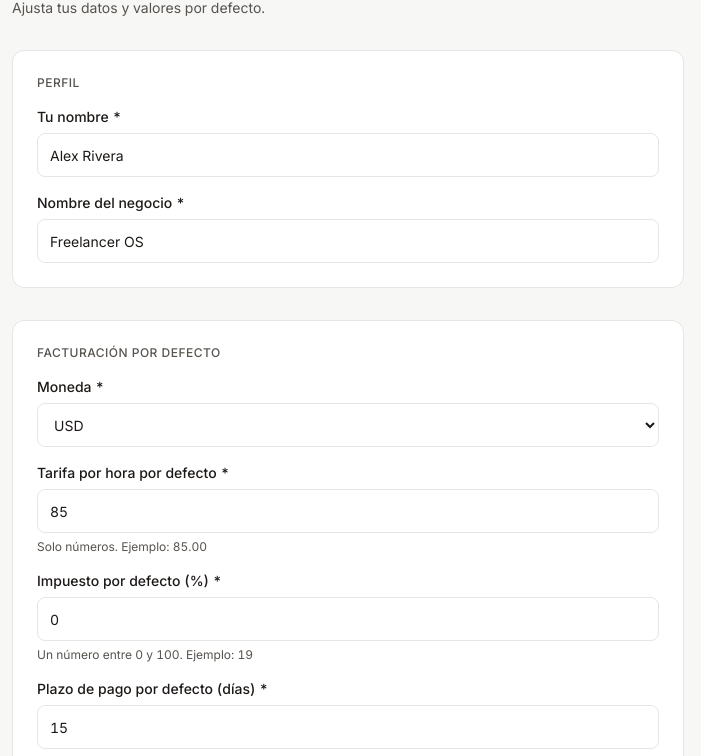
it: Configuración › shows a helpful error for an invalid tax rate
Replace the text in the number field labelled "Impuesto por defecto (%) *" with "150" at (348, 619), box [37,597,659,641]
(page scrolled)
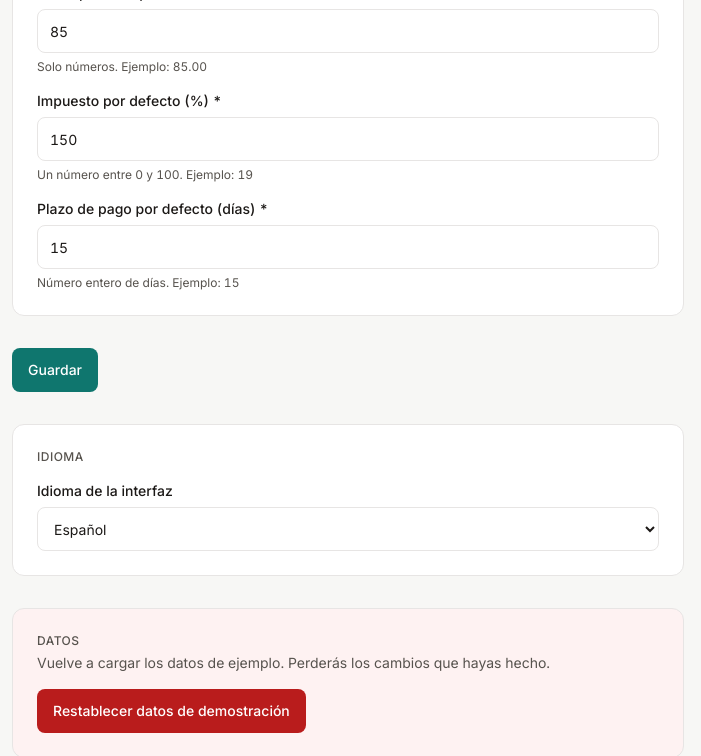
Click the button "Guardar" at (55, 370), box [12,348,98,392]
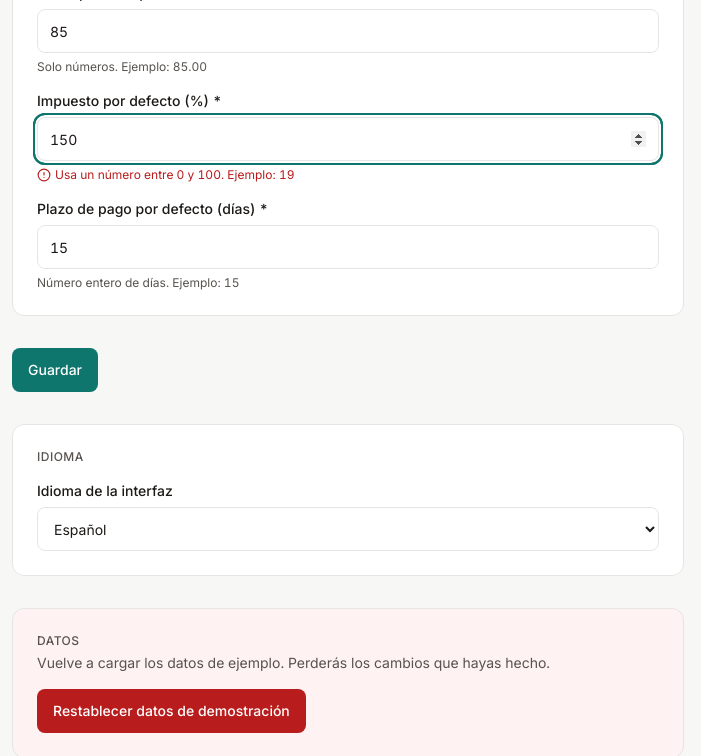
Now the text "Usa un número entre 0 y 100. Ejemplo: 19" is shown, box [37,167,294,182]
